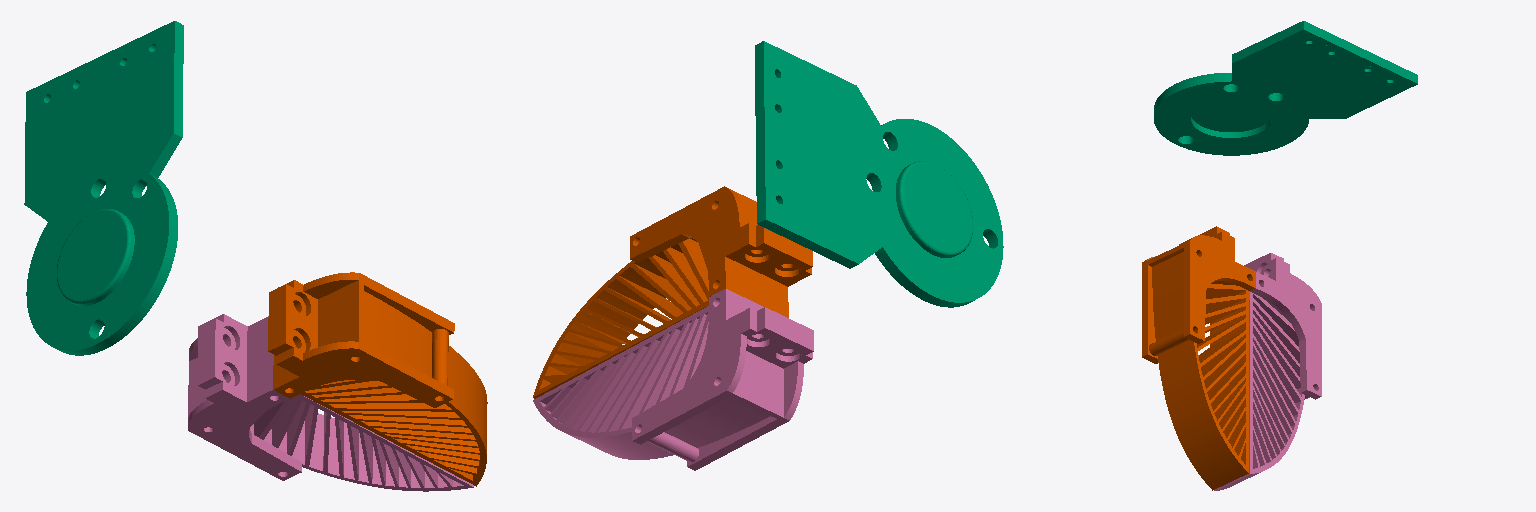
robot.urdf — fr3:
<?xml version="1.0" ?>
<!-- =================================================================================== -->
<!-- |    This document was autogenerated by xacro from /workspaces/src/./franka_description_fr3/robots/fr3/fr3.urdf.xacro | -->
<!-- |    EDITING THIS FILE BY HAND IS NOT RECOMMENDED                                 | -->
<!-- =================================================================================== -->
<robot name="fr3">
  <!-- safety_distance: Minimum safety distance in [m] by which the collision volumes are expanded and which is enforced during robot motions -->
  <!-- arm_id: Namespace of the robot arm. Serves to differentiate between arms in case of multiple instances. -->
  <!-- joint_limits: description of the joint limits that comes from a YAML file. Example definition: ${xacro.load_yaml('$(find ./franka_description_fr3)/robots/fr3/joint_limits.yaml')} -->
  <!-- kinematics: description of the kinematics that comes from a YAML file. Example definition: ${xacro.load_yaml('$(find ./franka_description_fr3)/robots/fr3/kinematics.yaml')} -->
  <!-- inertials: description of the inertials that comes from a YAML file. Example definition: ${xacro.load_yaml('$(find ./franka_description_fr3)/robots/fr3/inertials.yaml')} -->
  <!-- dynamics: description of the dynamics that comes from a YAML file. Example definition: ${xacro.load_yaml('$(find ./franka_description_fr3)/robots/fr3/dynamics.yaml')} -->
  <link name="base">
      </link>
  <joint name="base_joint" type="fixed">
    <parent link="base"/>
    <child link="fr3_link0"/>
    <origin rpy="0 0 0" xyz="0 0 0"/>
  </joint>
  <!-- sub-link defining detailed meshes for collision with environment -->
  <link name="fr3_link0">
    <visual name="fr3_link0_visual">
      <geometry>
        <mesh filename="./franka_description_fr3/meshes/robot_arms/fr3/visual/link0.dae"/>
      </geometry>
    </visual>
    <collision name="fr3_link0_collision">
      <geometry>
        <mesh filename="./franka_description_fr3/meshes/robot_arms/fr3/collision/link0.stl"/>
      </geometry>
    </collision>
    <inertial>
      <origin rpy="0 0 0" xyz="-0.0172 0.0004 0.0745"/>
      <mass value="2.3966"/>
      <inertia ixx="0.009" ixy="0.0" ixz="0.002" iyy="0.0115" iyz="0.0" izz="0.0085"/>
    </inertial>
  </link>
  <!-- sub-link defining detailed meshes for collision with environment -->
  <link name="fr3_link1">
    <visual name="fr3_link1_visual">
      <geometry>
        <mesh filename="./franka_description_fr3/meshes/robot_arms/fr3/visual/link1.dae"/>
      </geometry>
    </visual>
    <collision name="fr3_link1_collision">
      <geometry>
        <mesh filename="./franka_description_fr3/meshes/robot_arms/fr3/collision/link1.stl"/>
      </geometry>
    </collision>
    <inertial>
      <origin rpy="0 0 0" xyz="0.0000004128 -0.0181251324 -0.0386035970"/>
      <mass value="2.9274653454"/>
      <inertia ixx="0.023927316485107913" ixy="1.3317903455714081e-05" ixz="-0.00011404774918616684" iyy="0.0224821613275756" iyz="-0.0019950320628240115" izz="0.006350098258530016"/>
    </inertial>
  </link>
  <joint name="fr3_joint1" type="revolute">
    <origin rpy="0 0 0" xyz="0 0 0.333"/>
    <parent link="fr3_link0"/>
    <child link="fr3_link1"/>
    <axis xyz="0 0 1"/>
    <limit effort="87.0" lower="-2.7437" upper="2.7437" velocity="2.62"/>
    <safety_controller k_position="100.0" k_velocity="40.0" soft_lower_limit="-2.7437" soft_upper_limit="2.7437"/>
    <dynamics D="1" K="7000" damping="0.003" friction="0.2" mu_coulomb="0" mu_viscous="16"/>
  </joint>
  <!-- sub-link defining detailed meshes for collision with environment -->
  <link name="fr3_link2">
    <visual name="fr3_link2_visual">
      <geometry>
        <mesh filename="./franka_description_fr3/meshes/robot_arms/fr3/visual/link2.dae"/>
      </geometry>
    </visual>
    <collision name="fr3_link2_collision">
      <geometry>
        <mesh filename="./franka_description_fr3/meshes/robot_arms/fr3/collision/link2.stl"/>
      </geometry>
    </collision>
    <inertial>
      <origin rpy="0 0 0" xyz="0.0031828864 -0.0743221644 0.0088146084"/>
      <mass value="2.9355370338"/>
      <inertia ixx="0.041938946257609425" ixy="0.00020257331521090626" ixz="0.004077784227179924" iyy="0.02514514885014724" iyz="-0.0042252158006570156" izz="0.06170214472888839"/>
    </inertial>
  </link>
  <joint name="fr3_joint2" type="revolute">
    <origin rpy="-1.570796326794897 0 0" xyz="0 0 0"/>
    <parent link="fr3_link1"/>
    <child link="fr3_link2"/>
    <axis xyz="0 0 1"/>
    <limit effort="87.0" lower="-1.7837" upper="1.7837" velocity="2.62"/>
    <safety_controller k_position="100.0" k_velocity="40.0" soft_lower_limit="-1.7837" soft_upper_limit="1.7837"/>
    <dynamics D="1" K="7000" damping="0.003" friction="0.2" mu_coulomb="0" mu_viscous="16"/>
  </joint>
  <!-- sub-link defining detailed meshes for collision with environment -->
  <link name="fr3_link3">
    <visual name="fr3_link3_visual">
      <geometry>
        <mesh filename="./franka_description_fr3/meshes/robot_arms/fr3/visual/link3.dae"/>
      </geometry>
    </visual>
    <collision name="fr3_link3_collision">
      <geometry>
        <mesh filename="./franka_description_fr3/meshes/robot_arms/fr3/collision/link3.stl"/>
      </geometry>
    </collision>
    <inertial>
      <origin rpy="0 0 0" xyz="0.0407015686 -0.0048200565 -0.0289730823"/>
      <mass value="2.2449013699"/>
      <inertia ixx="0.02410142547240885" ixy="0.002404694559042109" ixz="-0.002856269270114313" iyy="0.01974053266708178" iyz="-0.002104212683891874" izz="0.019044494482244823"/>
    </inertial>
  </link>
  <joint name="fr3_joint3" type="revolute">
    <origin rpy="1.570796326794897 0 0" xyz="0 -0.316 0"/>
    <parent link="fr3_link2"/>
    <child link="fr3_link3"/>
    <axis xyz="0 0 1"/>
    <limit effort="87.0" lower="-2.9007" upper="2.9007" velocity="2.62"/>
    <safety_controller k_position="100.0" k_velocity="40.0" soft_lower_limit="-2.9007" soft_upper_limit="2.9007"/>
    <dynamics D="1" K="7000" damping="0.003" friction="0.2" mu_coulomb="0" mu_viscous="16"/>
  </joint>
  <!-- sub-link defining detailed meshes for collision with environment -->
  <link name="fr3_link4">
    <visual name="fr3_link4_visual">
      <geometry>
        <mesh filename="./franka_description_fr3/meshes/robot_arms/fr3/visual/link4.dae"/>
      </geometry>
    </visual>
    <collision name="fr3_link4_collision">
      <geometry>
        <mesh filename="./franka_description_fr3/meshes/robot_arms/fr3/collision/link4.stl"/>
      </geometry>
    </collision>
    <inertial>
      <origin rpy="0 0 0" xyz="-0.0459100965 0.0630492960 -0.0085187868"/>
      <mass value="2.6155955791"/>
      <inertia ixx="0.03452998321913202" ixy="0.01322552265982813" ixz="0.01015142998484113" iyy="0.028881621933049058" iyz="-0.0009762833870704552" izz="0.04125471171146641"/>
    </inertial>
  </link>
  <joint name="fr3_joint4" type="revolute">
    <origin rpy="1.570796326794897 0 0" xyz="0.0825 0 0"/>
    <parent link="fr3_link3"/>
    <child link="fr3_link4"/>
    <axis xyz="0 0 1"/>
    <limit effort="87.0" lower="-3.0421" upper="-0.1518" velocity="2.62"/>
    <safety_controller k_position="100.0" k_velocity="40.0" soft_lower_limit="-3.0421" soft_upper_limit="-0.1518"/>
    <dynamics D="1" K="7000" damping="0.003" friction="0.2" mu_coulomb="0" mu_viscous="16"/>
  </joint>
  <!-- sub-link defining detailed meshes for collision with environment -->
  <link name="fr3_link5">
    <visual name="fr3_link5_visual">
      <geometry>
        <mesh filename="./franka_description_fr3/meshes/robot_arms/fr3/visual/link5.dae"/>
      </geometry>
    </visual>
    <collision name="fr3_link5_collision">
      <geometry>
        <mesh filename="./franka_description_fr3/meshes/robot_arms/fr3/collision/link5.stl"/>
      </geometry>
    </collision>
    <inertial>
      <origin rpy="0 0 0" xyz="-0.0016039605 0.0292536262 -0.0972965990"/>
      <mass value="2.3271207594"/>
      <inertia ixx="0.051610278463662895" ixy="-0.005715173387783472" ixz="-0.0035673167625872135" iyy="0.04787729713371481" iyz="0.010673985108535986" izz="0.016423625579357254"/>
    </inertial>
  </link>
  <joint name="fr3_joint5" type="revolute">
    <origin rpy="-1.570796326794897 0 0" xyz="-0.0825 0.384 0"/>
    <parent link="fr3_link4"/>
    <child link="fr3_link5"/>
    <axis xyz="0 0 1"/>
    <limit effort="12.0" lower="-2.8065" upper="2.8065" velocity="5.26"/>
    <safety_controller k_position="100.0" k_velocity="40.0" soft_lower_limit="-2.8065" soft_upper_limit="2.8065"/>
    <dynamics D="1" K="7000" damping="0.003" friction="0.2" mu_coulomb="0" mu_viscous="16"/>
  </joint>
  <!-- sub-link defining detailed meshes for collision with environment -->
  <link name="fr3_link6">
    <visual name="fr3_link6_visual">
      <geometry>
        <mesh filename="./franka_description_fr3/meshes/robot_arms/fr3/visual/link6.dae"/>
      </geometry>
    </visual>
    <collision name="fr3_link6_collision">
      <geometry>
        <mesh filename="./franka_description_fr3/meshes/robot_arms/fr3/collision/link6.stl"/>
      </geometry>
    </collision>
    <inertial>
      <origin rpy="0 0 0" xyz="0.0597131221 -0.0410294666 -0.0101692726"/>
      <mass value="1.8170376524"/>
      <inertia ixx="0.005412333594383447" ixy="0.006193456360285834" ixz="0.0014219289306117652" iyy="0.014058329545509979" iyz="-0.0013140753741120031" izz="0.016080817924212554"/>
    </inertial>
  </link>
  <joint name="fr3_joint6" type="revolute">
    <origin rpy="1.570796326794897 0 0" xyz="0 0 0"/>
    <parent link="fr3_link5"/>
    <child link="fr3_link6"/>
    <axis xyz="0 0 1"/>
    <limit effort="12.0" lower="0.5445" upper="4.5169" velocity="4.18"/>
    <safety_controller k_position="100.0" k_velocity="40.0" soft_lower_limit="0.5445" soft_upper_limit="4.5169"/>
    <dynamics D="1" K="7000" damping="0.003" friction="0.2" mu_coulomb="0" mu_viscous="16"/>
  </joint>
  <!-- sub-link defining detailed meshes for collision with environment -->
  <link name="fr3_link7">
    <visual name="fr3_link7_visual">
      <geometry>
        <mesh filename="./franka_description_fr3/meshes/robot_arms/fr3/visual/link7.dae"/>
      </geometry>
    </visual>
    <collision name="fr3_link7_collision">
      <geometry>
        <mesh filename="./franka_description_fr3/meshes/robot_arms/fr3/collision/link7.stl"/>
      </geometry>
    </collision>
    <inertial>
      <origin rpy="0 0 0" xyz="0.0045225817 0.0086261921 -0.0161633251"/>
      <mass value="0.6271432862"/>
      <inertia ixx="0.00021092389150104718" ixy="-2.433299114461931e-05" ixz="4.564480393778983e-05" iyy="0.00017718568002411474" iyz="8.744070223226438e-05" izz="5.993190599659971e-05"/>
    </inertial>
  </link>
  <joint name="fr3_joint7" type="revolute">
    <origin rpy="1.570796326794897 0 0" xyz="0.088 0 0"/>
    <parent link="fr3_link6"/>
    <child link="fr3_link7"/>
    <axis xyz="0 0 1"/>
    <limit effort="12.0" lower="-3.0159" upper="3.0159" velocity="5.26"/>
    <safety_controller k_position="100.0" k_velocity="40.0" soft_lower_limit="-3.0159" soft_upper_limit="3.0159"/>
    <dynamics D="1" K="7000" damping="0.003" friction="0.2" mu_coulomb="0" mu_viscous="16"/>
  </joint>
  <link name="fr3_link8"/>
  <joint name="fr3_joint8" type="fixed">
    <origin rpy="0 0 0" xyz="0 0 0.107"/>
    <parent link="fr3_link7"/>
    <child link="fr3_link8"/>
  </joint>
  <!-- add camera mount or add z offset to hand link -->
  <link name="fr3_cam_mount">
    <visual name="fr3_cam_mount_visual">
      <geometry>
        <mesh filename="./franka_description_fr3/meshes/collision/fr3_cam_mount_v6.stl"  scale="0.001 0.001 0.001"/>
      </geometry>
    </visual>
    <collision name="fr3_cam_mount_collision">
      <geometry>
        <mesh filename="./franka_description_fr3/meshes/collision/fr3_cam_mount_v6.stl"  scale="0.001 0.001 0.001"/>
      </geometry>
    </collision>
  </link>
  <joint name="fr3_cam_mount_joint" type="fixed">
    <origin rpy="3.141592653589793 0 2.356194490192345" xyz="0 0 0"/>
    <parent link="fr3_link8"/>
    <child link="fr3_cam_mount"/>
  </joint>

  <joint name="fr3_hand_joint" type="fixed">
    <parent link="fr3_cam_mount"/>
    <child link="fr3_hand"/>
    <origin rpy="3.141592653589793 0 3.141592653589793" xyz="0 0 -0.005"/>
  </joint>
  <!-- sub-link defining detailed meshes for collision with environment -->
  <link name="fr3_hand">
    <visual name="fr3_hand_visual">
      <geometry>
        <mesh filename="./franka_description_fr3/meshes/robot_ee/franka_hand_white/visual/hand.dae"/>
      </geometry>
    </visual>
    <collision name="fr3_hand_collision">
      <geometry>
        <mesh filename="./franka_description_fr3/meshes/robot_ee/franka_hand_white/collision/hand.stl"/>
      </geometry>
    </collision>
    <inertial>
      <origin rpy="0 0 0" xyz="-0.01 0 0.03"/>
      <mass value="0.73"/>
      <inertia ixx="0.001" ixy="0" ixz="0" iyy="0.0025" iyz="0" izz="0.0017"/>
    </inertial>
  </link>
  <!-- Define the hand_tcp frame -->
  <link name="fr3_hand_tcp"/>
  <joint name="fr3_hand_tcp_joint" type="fixed">
    <origin rpy="0 0 0" xyz="0 0 0.1034"/>
    <parent link="fr3_hand"/>
    <child link="fr3_hand_tcp"/>
  </joint>
  <link name="fr3_leftfinger">
    <visual name="fr3_leftfinger_visual">
      <geometry>
        <mesh filename="./franka_description_fr3/meshes/visual/umi_finger_short.stl"/>
      </geometry>
    </visual>
    <collision>
      <geometry>
        <mesh filename="./franka_description_fr3/meshes/collision/umi_finger_short.stl"/>
      </geometry>
    </collision>
  </link>
  <link name="fr3_rightfinger">
    <visual name="fr3_rightfinger_visual">
      <origin rpy="0 0 3.141592653589793" xyz="0 0 0"/>
      <geometry>
        <mesh filename="./franka_description_fr3/meshes/visual/umi_finger_short.stl"/>
      </geometry>
    </visual>
    <collision>
      <origin rpy="0 0 3.141592653589793" xyz="0 0 0"/>
      <geometry>
        <mesh filename="./franka_description_fr3/meshes/collision/umi_finger_short.stl"/>
      </geometry>
    </collision>
  </link>
  <joint name="fr3_finger_joint1" type="prismatic">
    <parent link="fr3_hand"/>
    <child link="fr3_leftfinger"/>
    <origin rpy="0 0 0" xyz="0 0 0.0584"/>
    <axis xyz="0 1 0"/>
    <limit effort="20" lower="0.0" upper="0.04" velocity="0.2"/>
    <dynamics damping="0.3"/>
  </joint>
  <joint name="fr3_finger_joint2" type="prismatic">
    <parent link="fr3_hand"/>
    <child link="fr3_rightfinger"/>
    <origin rpy="0 0 0" xyz="0 0 0.0584"/>
    <axis xyz="0 -1 0"/>
    <limit effort="20" lower="0.0" upper="0.04" velocity="0.2"/>
    <mimic joint="fr3_finger_joint1"/>
    <dynamics damping="0.3"/>
  </joint>

  <!--  camera mount-->
  <joint name="realsense_joint" type="fixed">
    <origin rpy="0 -1.5707 3.1415" xyz="0.064047 0.0 0.036"/>
    <parent link="fr3_hand"/>
    <child link="camera_base_link"/>
  </joint>
  <link name="camera_base_link"/>
  <joint name="camera_link_joint" type="fixed">
    <origin rpy="0 0 0" xyz="-0.01 0.02 0.0015"/>
    <parent link="camera_base_link"/>
    <child link="camera_link"/>
  </joint>
  <link name="camera_link">
    <visual>
      <origin rpy="1.5707963267948966 0 1.5707963267948966" xyz="0 -0.02 0"/>
      <geometry>
        <mesh filename="./realsense2_description/meshes/d435.stl"/>
      </geometry>
      <!-- <material name="aluminum"/> -->
    </visual>
    <collision>
      <origin rpy="0 0 0" xyz="-0.0125 -0.02 0"/>
      <geometry>
        <box size="0.02005 0.099 0.023"/>
      </geometry>
    </collision>
    <inertial>
      <mass value="0.564"/>
      <origin xyz="0 0 0"/>
      <inertia ixx="0.003881243" ixy="0.0" ixz="0.0" iyy="0.000498940" iyz="0.0" izz="0.003879257"/>
    </inertial>
  </link>
</robot>

--- Facts derived from the render (not from the file) ---
3 views of the same robot in one strip: view 1: azimuth 30°, elevation 25°; view 2: azimuth 150°, elevation 25°; view 3: azimuth 270°, elevation 25° (orthographic).
Model fr3 with 17 links and 16 joints (7 revolute, 2 prismatic, 7 fixed), rooted at base, posed all joints at 0 but 2 set to mid-range because 0 is outside their limits (fr3_joint4 = -1.6, fr3_joint6 = 2.53).
Visible links, largest first — view 1: fr3_cam_mount, fr3_leftfinger, fr3_rightfinger; view 2: fr3_cam_mount, fr3_rightfinger, fr3_leftfinger; view 3: fr3_leftfinger, fr3_cam_mount, fr3_rightfinger.
Link boxes in pixels (<box>): fr3_cam_mount: <box>24,21,183,355</box>; fr3_leftfinger: <box>268,272,487,486</box>; fr3_rightfinger: <box>188,314,473,491</box>; fr3_cam_mount: <box>755,41,1003,307</box>; fr3_rightfinger: <box>533,289,813,470</box>; fr3_leftfinger: <box>533,186,812,398</box>; fr3_leftfinger: <box>1142,226,1255,490</box>; fr3_cam_mount: <box>1154,21,1417,155</box>; fr3_rightfinger: <box>1214,253,1321,490</box>.
Size in the robot's own frame: 0.1563 by 0.1086 by 0.1659 metres.
3 mesh visuals loaded from 12 distinct referenced files (2 binary STL); not drawn: 10 (reference not matched to a file when rendering).